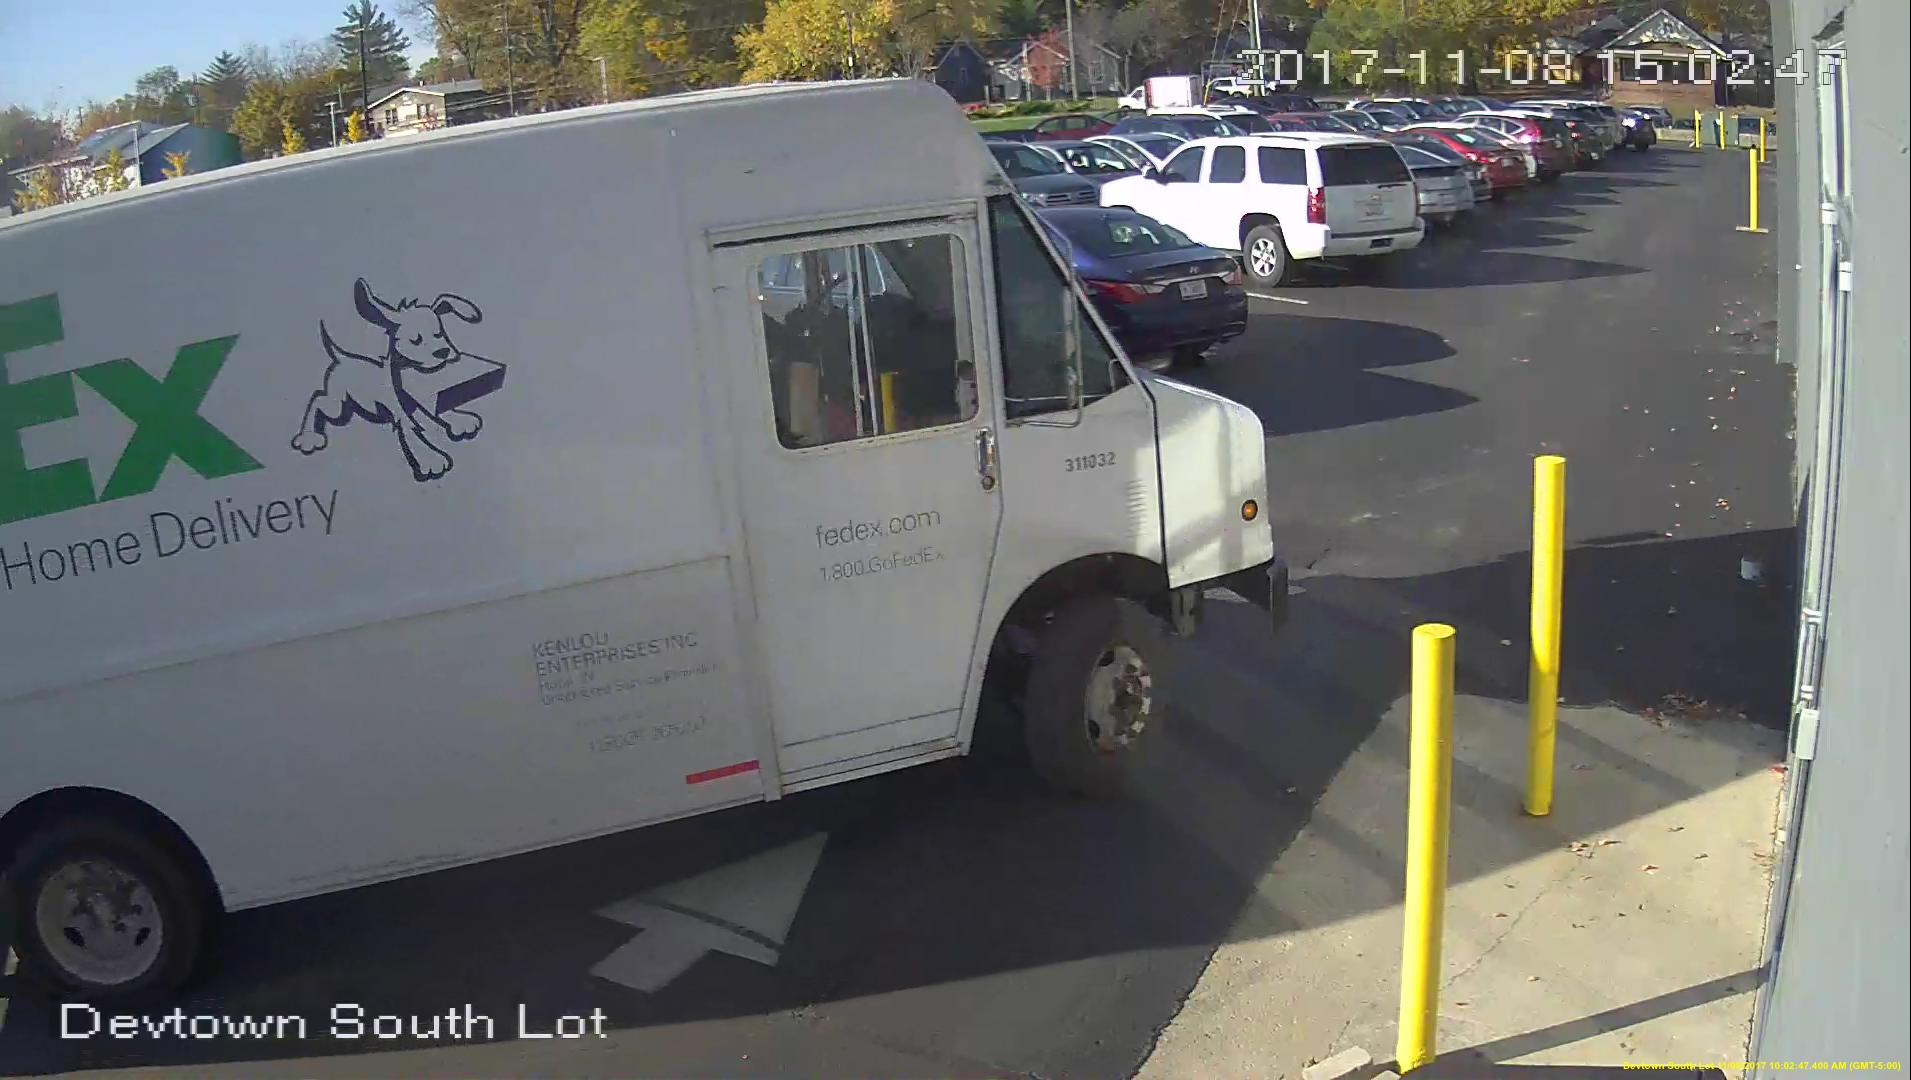fedex_truck: (3, 68, 1305, 980)
